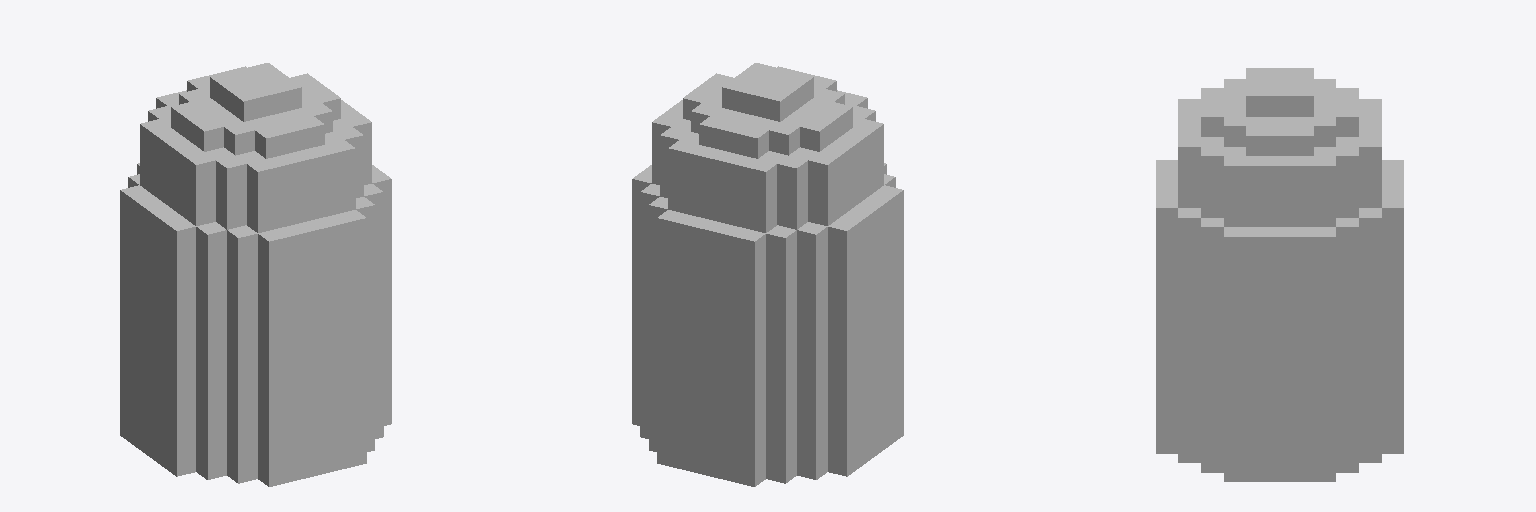
File: Bullet.obj
3 renders of one model, left to right at view 1: azimuth 30°, elevation 25°; view 2: azimuth 150°, elevation 25°; view 3: azimuth 270°, elevation 25°, orthographic.
Parts seen in each view (by area): view 1: object 1; view 2: object 1; view 3: object 1.
Boxes of the visible parts, <box> form: object 1: <box>120,63,391,486</box>; object 1: <box>632,63,903,486</box>; object 1: <box>1156,68,1403,481</box>.
Size of the model in its own units: 1.1 by 1.7 by 1.1.